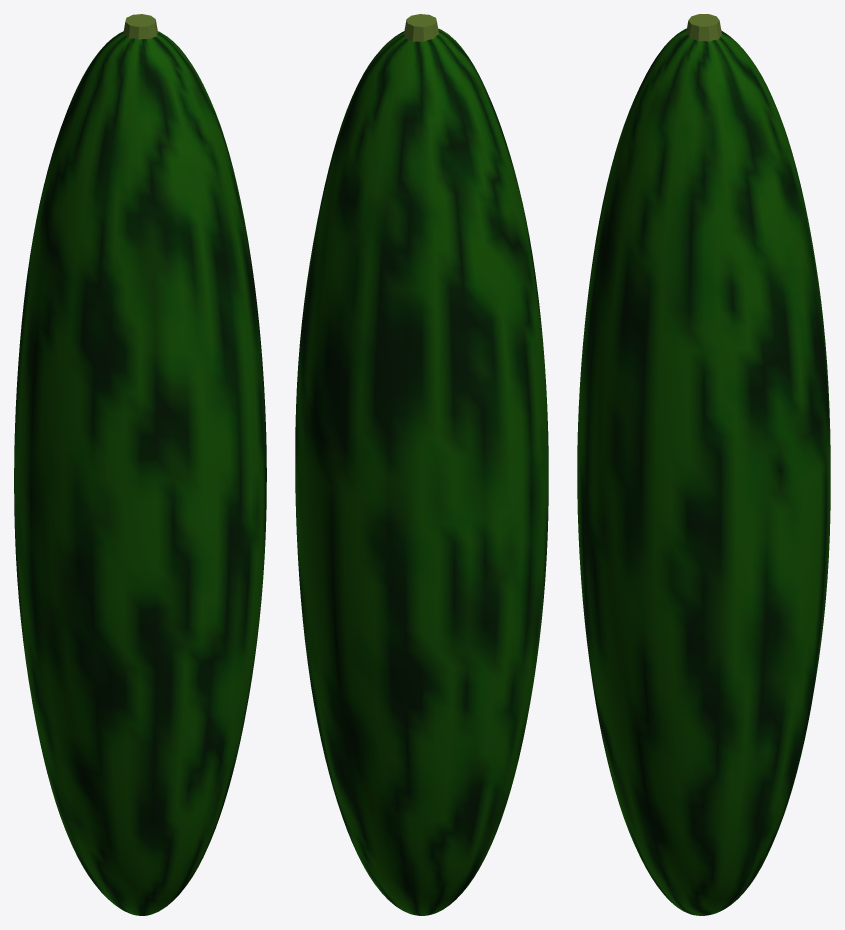
File: concombre.glb
3 renders of one model, left to right at view 1: azimuth 30°, elevation 25°; view 2: azimuth 150°, elevation 25°; view 3: azimuth 270°, elevation 25°, orthographic.
Visible parts, largest first — view 1: entier_peau, moitie_B_peau, moitie_A_peau, entier_extra0; view 2: entier_peau, moitie_A_peau, moitie_B_peau, entier_extra0; view 3: entier_peau, moitie_B_peau, moitie_A_peau, entier_extra0.
Boxes of the visible parts, <box> form: entier_peau: <box>14,31,266,915</box>; moitie_B_peau: <box>31,33,266,915</box>; moitie_A_peau: <box>14,32,124,889</box>; entier_extra0: <box>123,14,157,39</box>; entier_peau: <box>295,29,548,915</box>; moitie_A_peau: <box>295,33,531,915</box>; moitie_B_peau: <box>438,30,548,905</box>; entier_extra0: <box>404,14,438,41</box>; entier_peau: <box>577,28,830,915</box>; moitie_B_peau: <box>577,29,703,915</box>; moitie_A_peau: <box>704,31,830,914</box>; entier_extra0: <box>686,14,721,41</box>.
Size of the model in its own units: 0.52 by 2.02 by 0.52.
